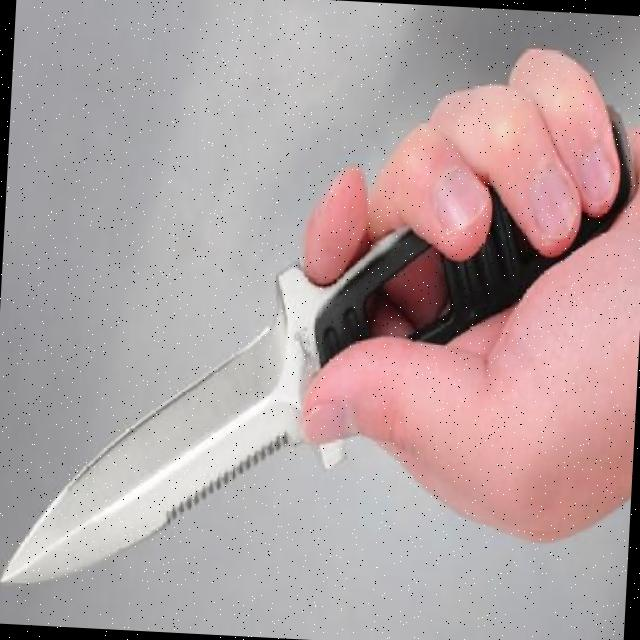Knife: (0, 67, 639, 622)
